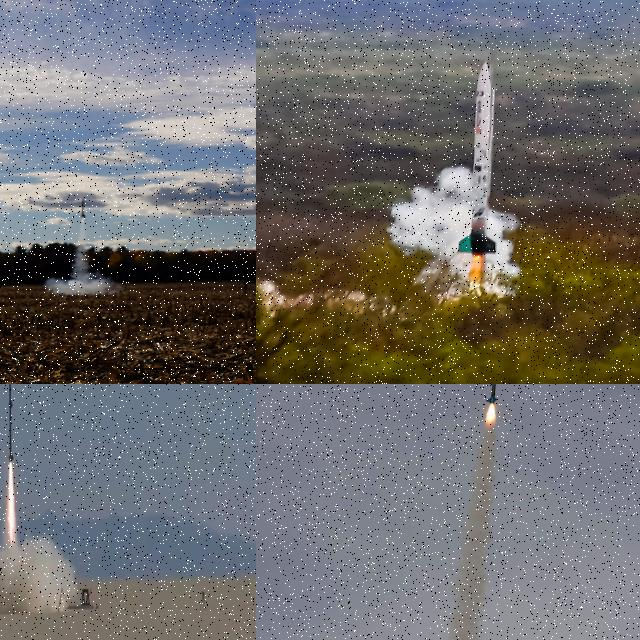Rocket: (457, 61, 496, 256), (7, 384, 13, 462), (485, 384, 498, 404), (80, 197, 86, 217)
